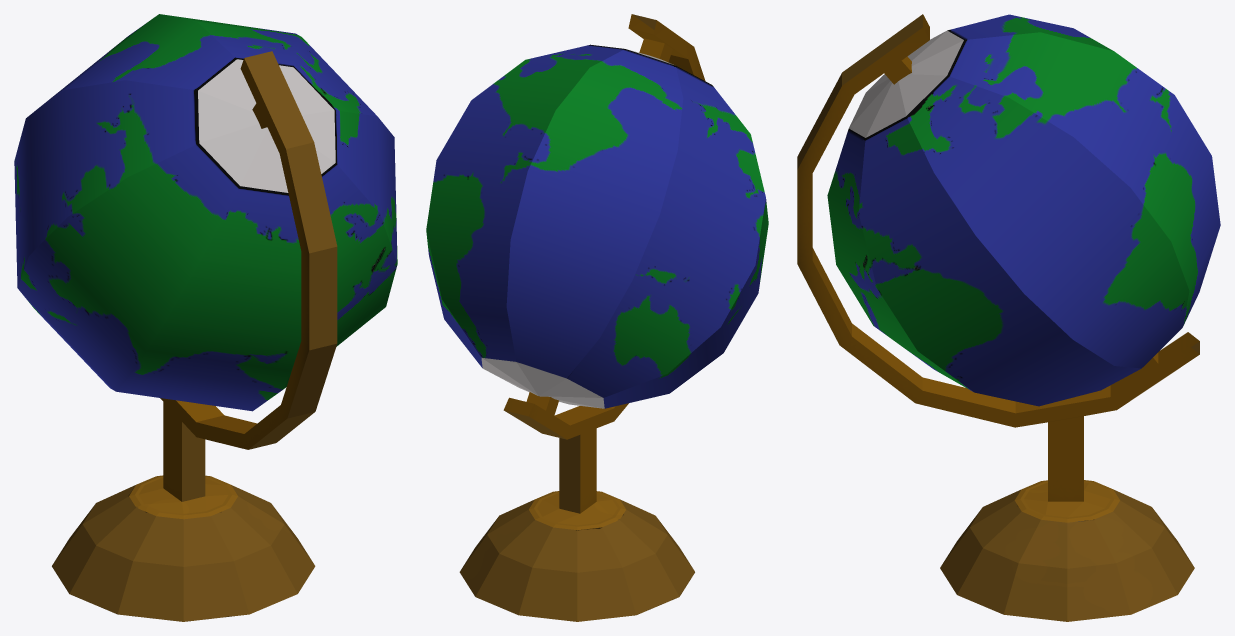
Rendered from Globe.fbx.
The picture shows the model from 3 angles, left to right: view 1: azimuth 30°, elevation 25°; view 2: azimuth 150°, elevation 25°; view 3: azimuth 270°, elevation 25°; orthographic projection. The views are drawn at different scales.
Visible parts, largest first — view 1: globe; view 2: globe; view 3: globe.
Boxes of the visible parts, box(x1,y1,x2,y2) form: globe: box(14, 14, 397, 621); globe: box(426, 14, 768, 621); globe: box(797, 14, 1220, 621).
Bounding box in the file's own units: 0.7523 × 1.15 × 0.8072.
